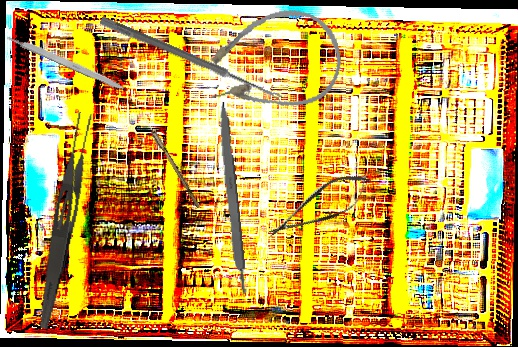Cannula: (196, 0, 349, 124)
Dressing Forceps: (34, 111, 97, 331)
Micro Scissor: (260, 163, 379, 251)
Scalpel Handle: (5, 31, 129, 94), (214, 101, 249, 296)
Surgical Spoon: (98, 16, 284, 102), (133, 103, 203, 209)
